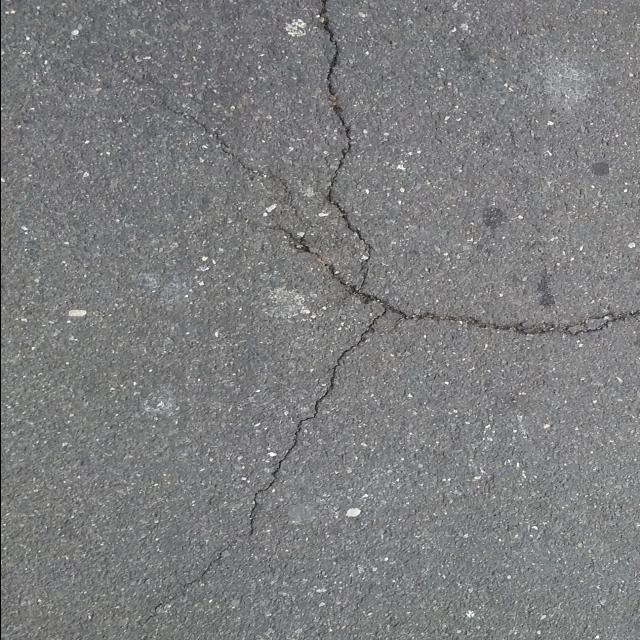Crack: (141, 0, 640, 625), (152, 100, 335, 226)
